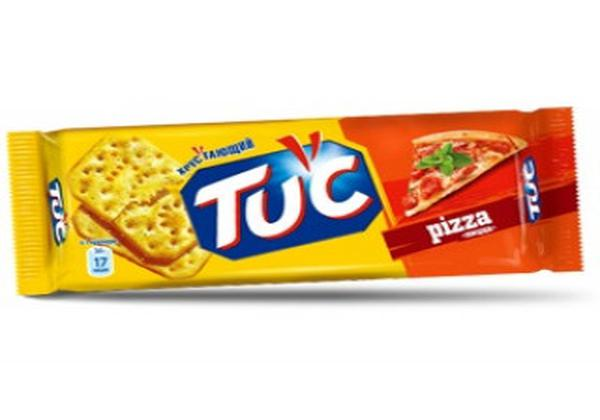crackers tuc: (44, 104, 549, 297)
